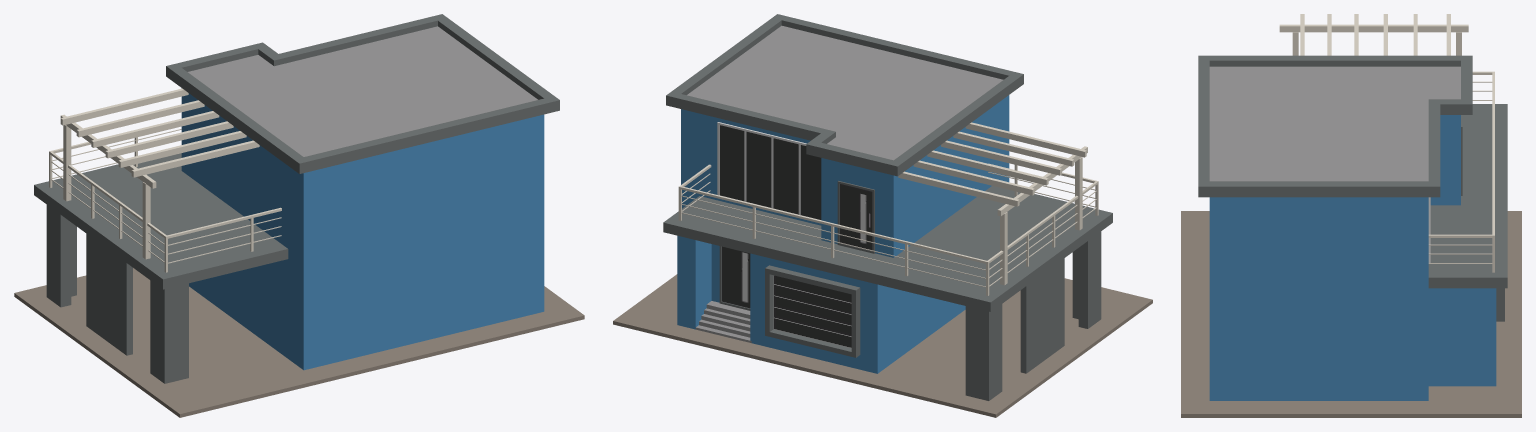
File: Casa Vizinho Blue 1.fbx
The picture shows the model from 3 angles, left to right: view 1: azimuth 30°, elevation 25°; view 2: azimuth 150°, elevation 25°; view 3: azimuth 270°, elevation 25°; orthographic projection. The views are drawn at different scales.
Visible parts, largest first — view 1: Casa; view 2: Casa; view 3: Casa.
Boxes of the visible parts, left/top/right/bottom form: Casa: left=14, top=14, right=584, bottom=417; Casa: left=613, top=14, right=1152, bottom=417; Casa: left=1181, top=14, right=1521, bottom=417.
Size of the model in its own units: 4881 by 2500 by 3460.
2 materials, 1 textured.
